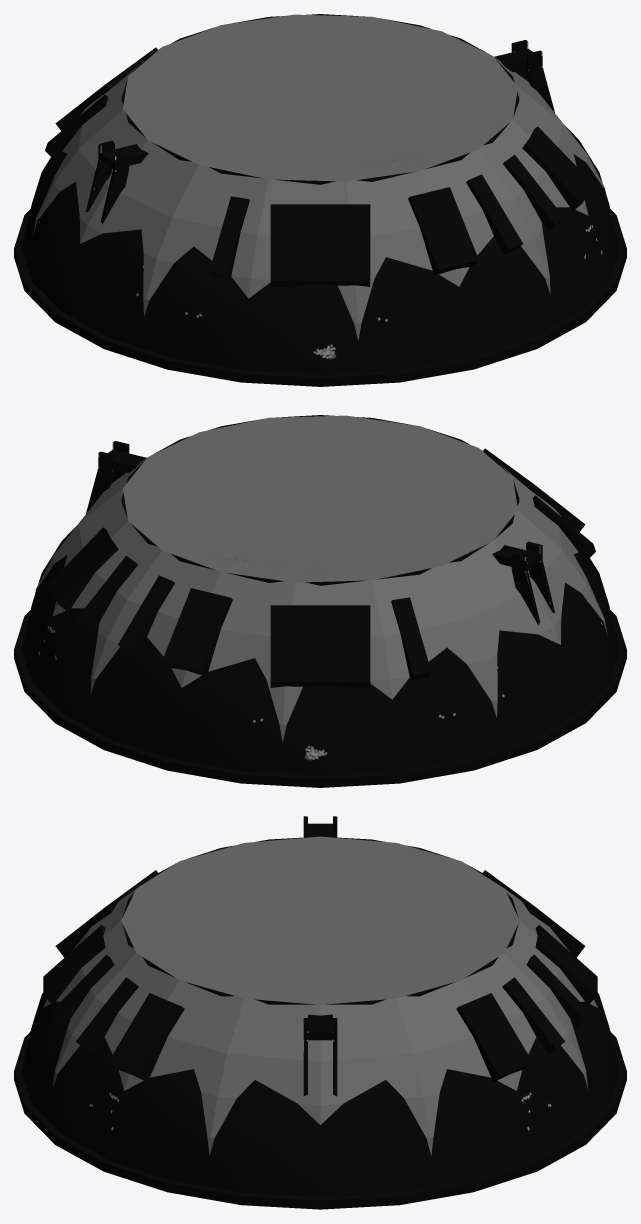
The model's file is Vega_Avionics.dae.
The picture shows the model from 3 angles, top to bottom: view 1: azimuth 30°, elevation 25°; view 2: azimuth 150°, elevation 25°; view 3: azimuth 270°, elevation 25°; orthographic projection.
Parts seen in each view (by area): view 1: Vega_Avionics1, pCylinder157; view 2: Vega_Avionics1, pCylinder157; view 3: pCylinder157, Vega_Avionics1.
Part boxes in pixels (x1=…): Vega_Avionics1: x1=14, y1=14, x2=626, y2=386; pCylinder157: x1=33, y1=14, x2=605, y2=340; Vega_Avionics1: x1=14, y1=415, x2=626, y2=787; pCylinder157: x1=35, y1=415, x2=607, y2=741; pCylinder157: x1=43, y1=836, x2=597, y2=1155; Vega_Avionics1: x1=14, y1=816, x2=626, y2=1209.
Size of the model in its own units: 1.89 by 0.5413 by 1.89.
